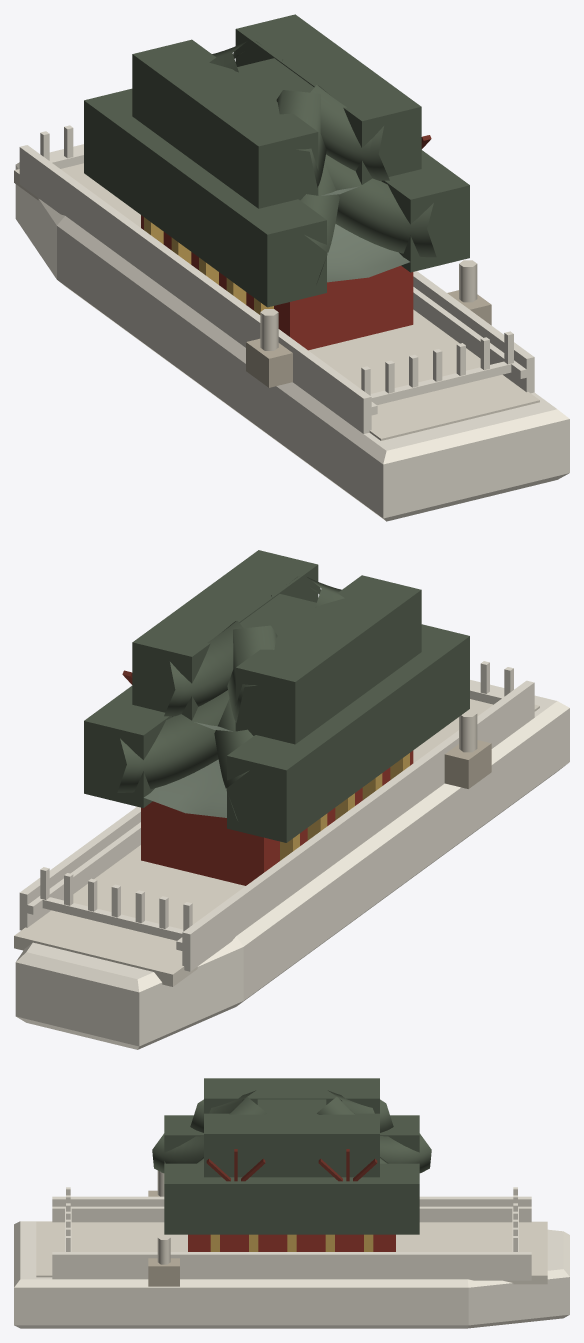
3 views of the same model, one above another, from view 1: azimuth 30°, elevation 25°; view 2: azimuth 150°, elevation 25°; view 3: azimuth 270°, elevation 25° (orthographic). The views are drawn at different scales.
Bounding box in the file's own units: 0.112 × 0.1418 × 0.348.
